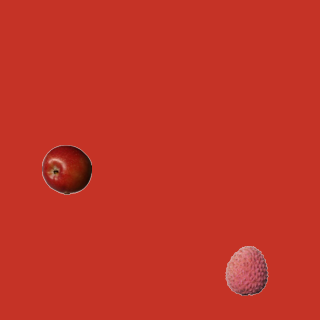Apple Braeburn: (41, 144, 91, 194)
Lychee: (221, 245, 271, 295)
